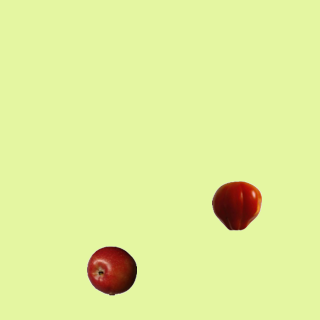Apple Braeburn: (86, 245, 136, 295)
Tomato 1: (211, 180, 261, 230)
